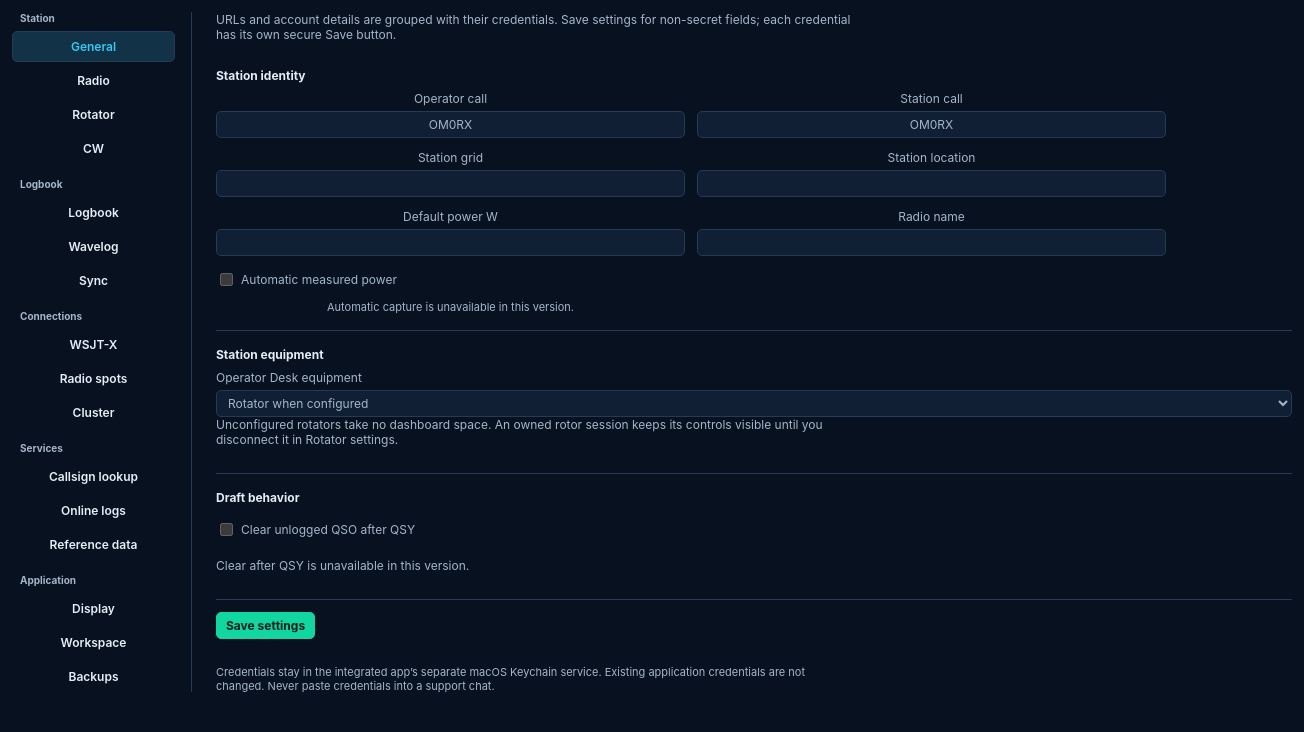
it: grouped service settings › exposes Cluster as a first-class tab backed by the Cluster snapshot
The width and height of the screenshot is (1304, 732).
Click the tab "Cluster": point(94, 412) [12,397,175,428]
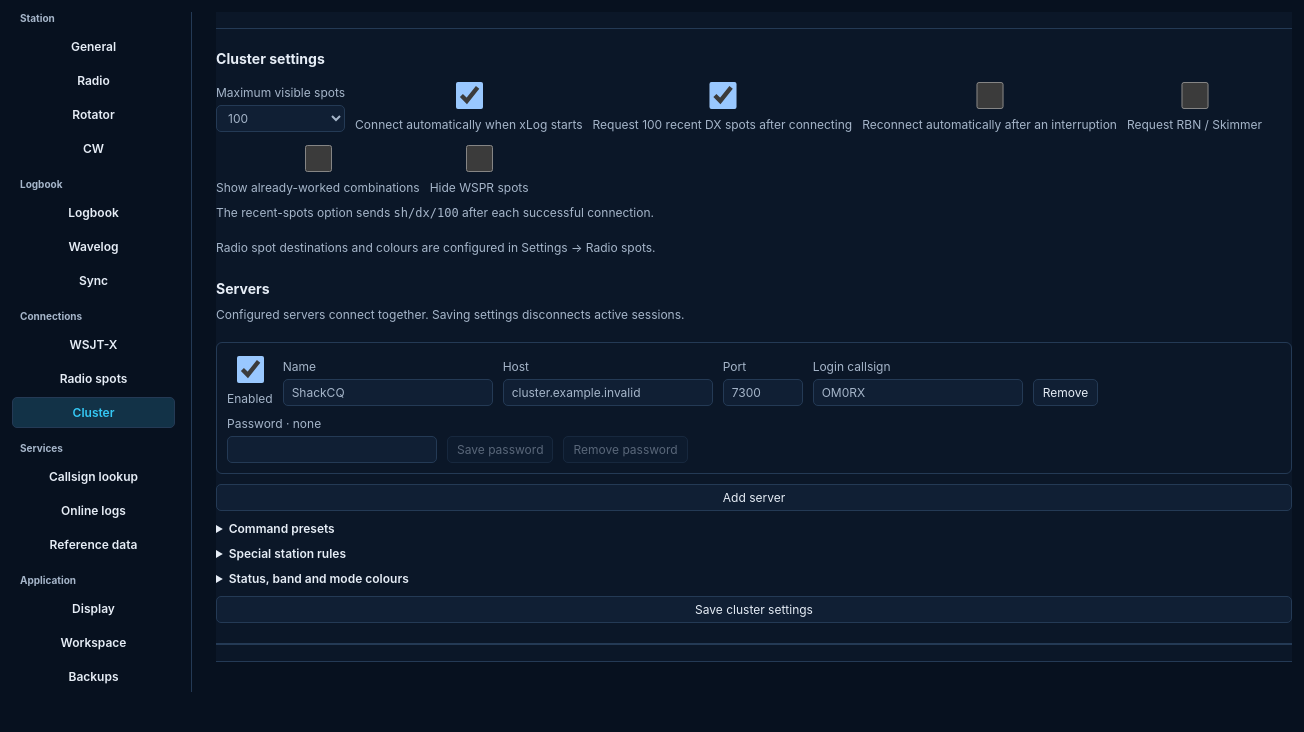
expect the field named "ShackCQ host" is shown: met, box [503,379,713,406]
expect the element named "CW" is shown: met, box [229,571,409,586]
expect the text "Save settings" is gone: met
